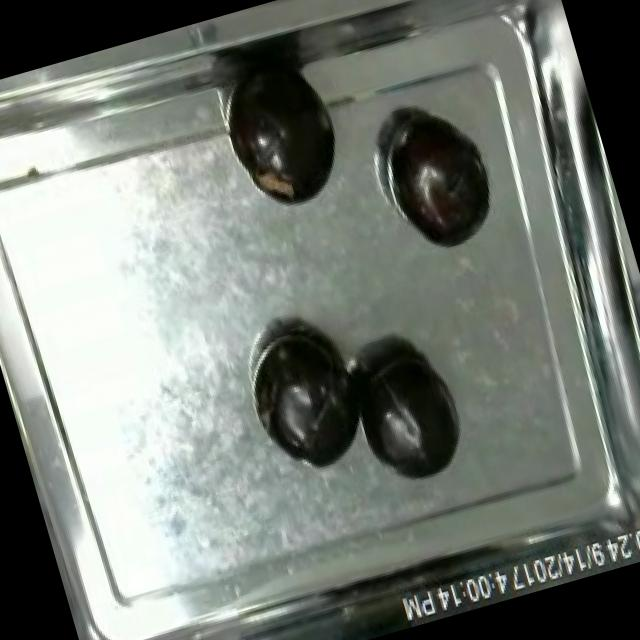Fruit: (240, 314, 382, 484), (215, 60, 356, 223), (342, 332, 479, 498), (377, 109, 508, 262)
